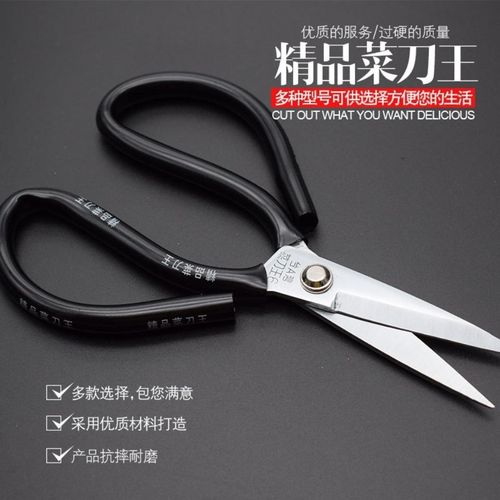scissor: (3, 71, 500, 410)
